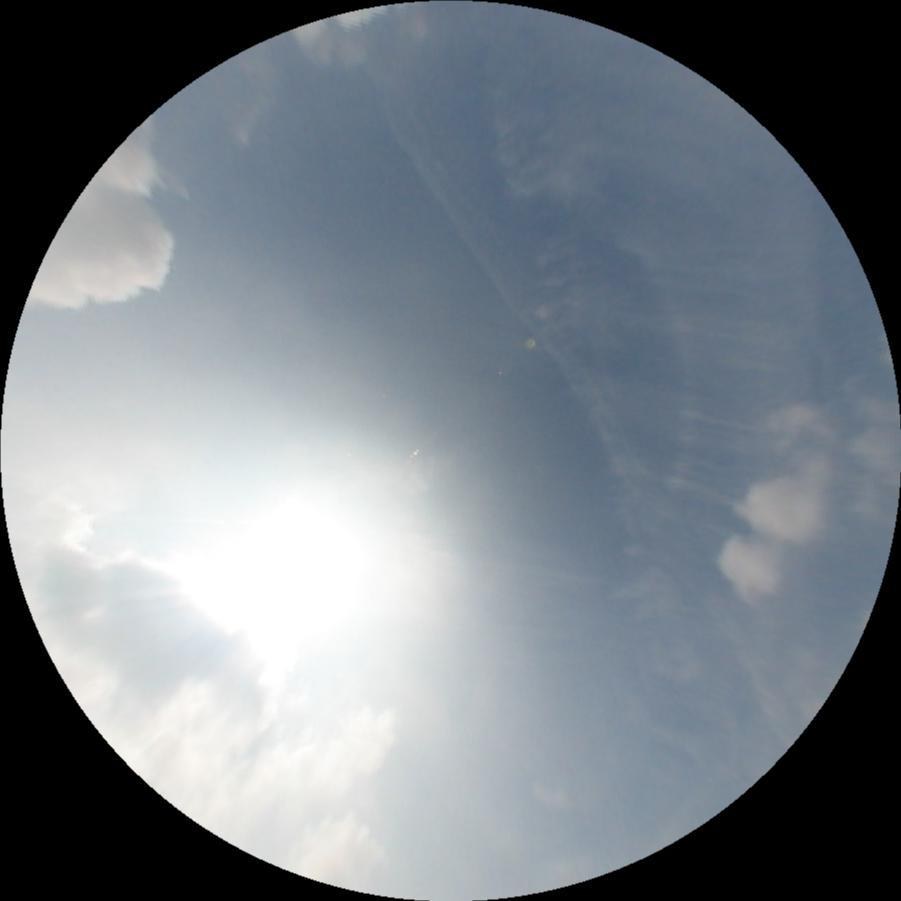contrail veryold: (346, 38, 818, 748)
sun: (173, 470, 387, 683)
